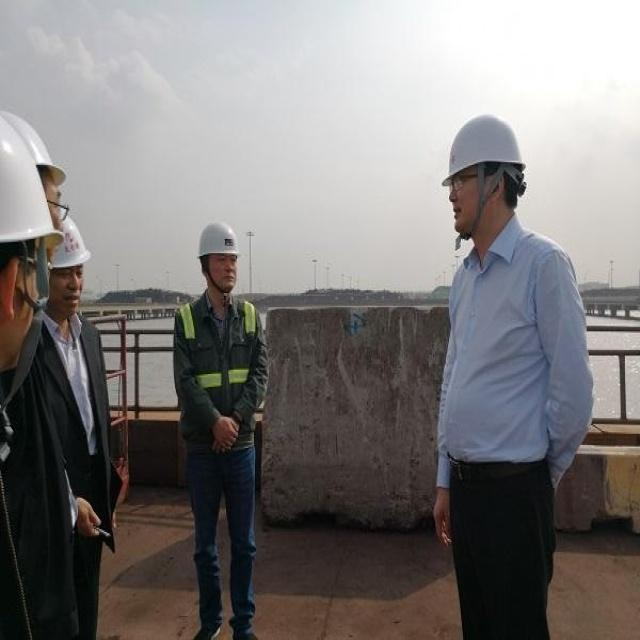helmet: (440, 147, 529, 340), (2, 160, 47, 497), (43, 282, 85, 429), (195, 290, 242, 394)
vest: (168, 392, 273, 601)
